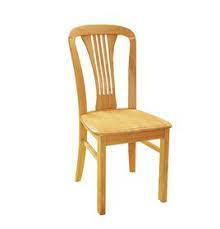chair: (42, 15, 192, 215)
